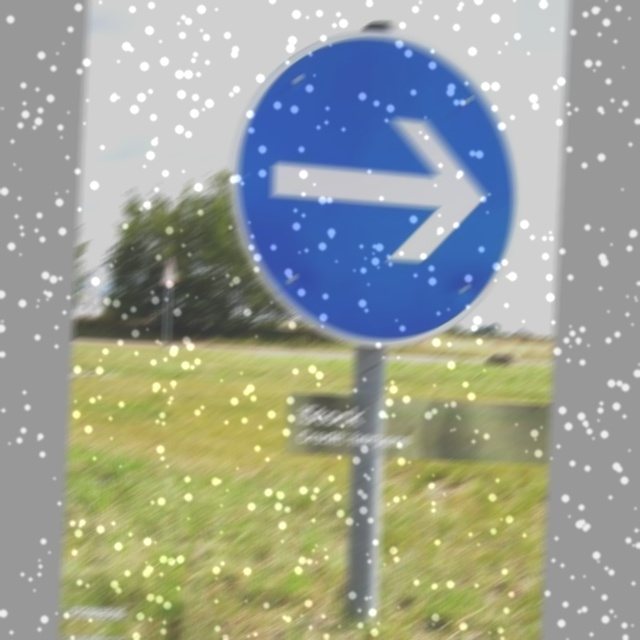Compulsory_Turn_Right: (226, 24, 530, 347)
